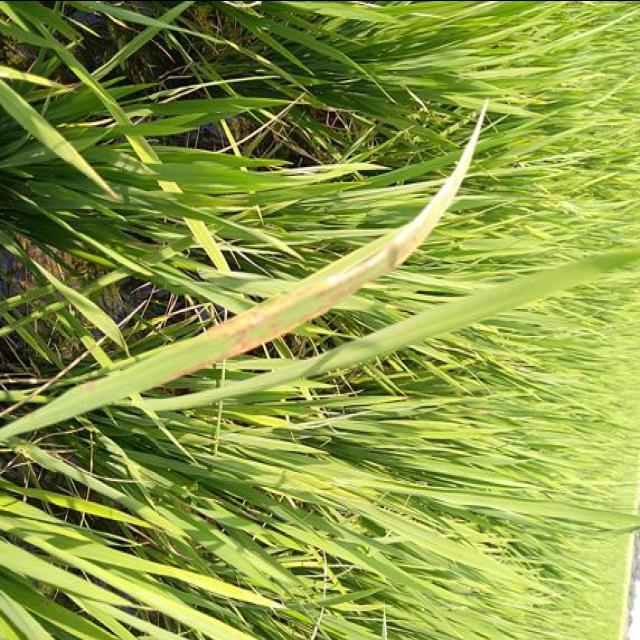Leaf Streak: (35, 111, 483, 423)
